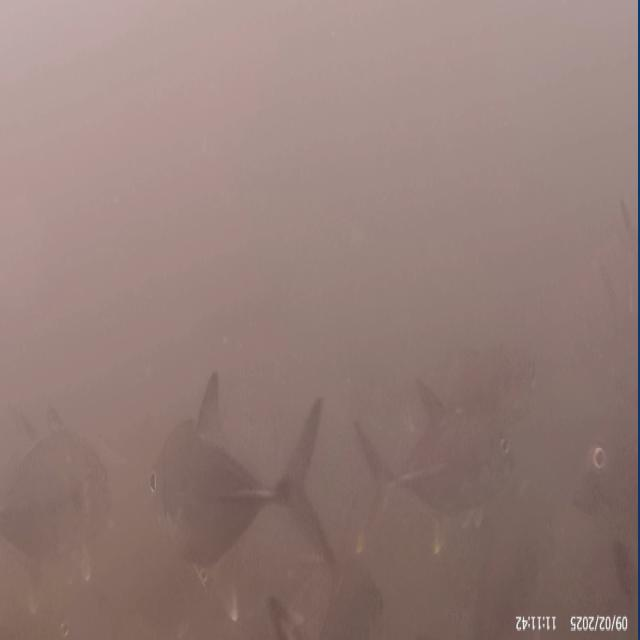ikan: (351, 346, 541, 544), (158, 371, 335, 561)
